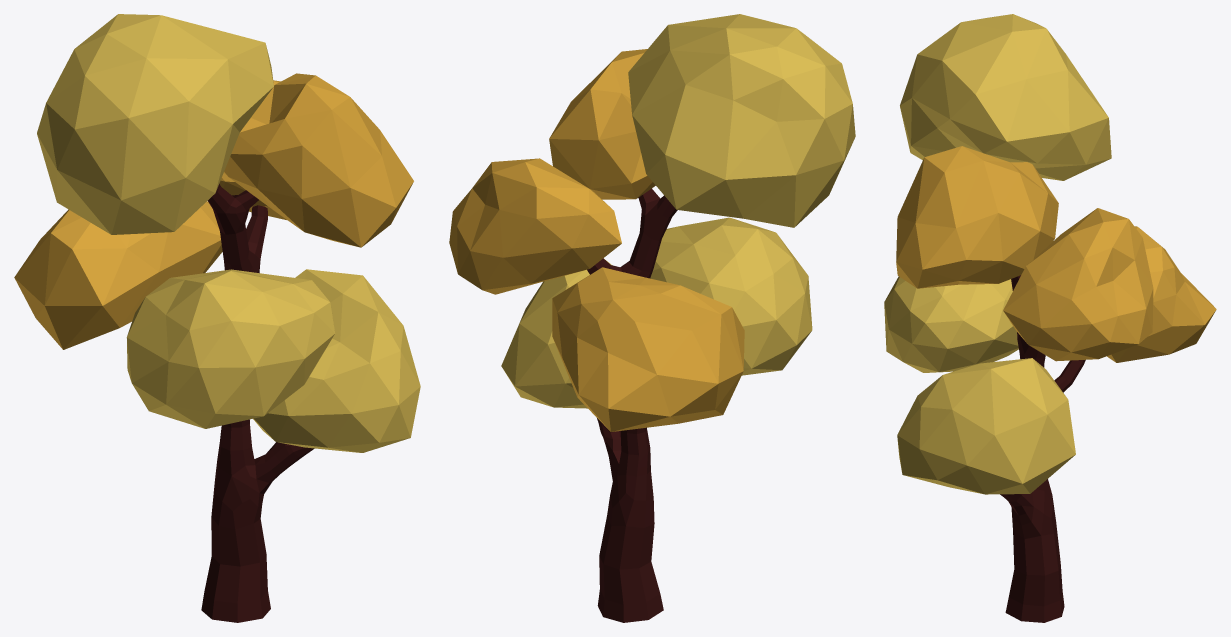
File: savanna_tree_1.fbx
3 renders of one model, left to right at view 1: azimuth 30°, elevation 25°; view 2: azimuth 150°, elevation 25°; view 3: azimuth 270°, elevation 25°, orthographic. The views are drawn at different scales.
Visible parts, largest first — view 1: tree1_Icosphere.011, tree1_Icosphere.016, tree1_Icosphere.017, tree1_Icosphere.013, tree1_Icosphere.014, tree1_Icosphere.012; view 2: tree1_Icosphere.011, tree1_Icosphere.014, tree1_Icosphere.015, tree1_Icosphere.016, tree1_Icosphere.012, tree1_Icosphere.017, tree1_Icosphere.013; view 3: tree1_Icosphere.011, tree1_Icosphere.013, tree1_Icosphere.017, tree1_Icosphere.015, tree1_Icosphere.016, tree1_Icosphere.012, tree1_Icosphere.014.
Part boxes in pixels (<box>): tree1_Icosphere.011: <box>37,14,273,234</box>; tree1_Icosphere.016: <box>126,269,335,428</box>; tree1_Icosphere.017: <box>224,73,413,247</box>; tree1_Icosphere.013: <box>253,269,420,452</box>; tree1_Icosphere.014: <box>14,201,222,349</box>; tree1_Icosphere.012: <box>201,183,314,622</box>; tree1_Icosphere.011: <box>628,14,855,227</box>; tree1_Icosphere.014: <box>552,267,744,431</box>; tree1_Icosphere.015: <box>449,158,621,294</box>; tree1_Icosphere.016: <box>650,217,812,375</box>; tree1_Icosphere.012: <box>587,188,677,622</box>; tree1_Icosphere.017: <box>549,49,655,199</box>; tree1_Icosphere.013: <box>501,259,611,408</box>; tree1_Icosphere.011: <box>900,14,1111,180</box>; tree1_Icosphere.013: <box>897,358,1075,494</box>; tree1_Icosphere.017: <box>896,146,1058,288</box>; tree1_Icosphere.015: <box>1003,208,1153,361</box>; tree1_Icosphere.016: <box>884,276,1018,372</box>; tree1_Icosphere.012: <box>1000,275,1085,622</box>; tree1_Icosphere.014: <box>1107,226,1216,362</box>.
Size of the model in its own units: 1207 by 2021 by 1124.
